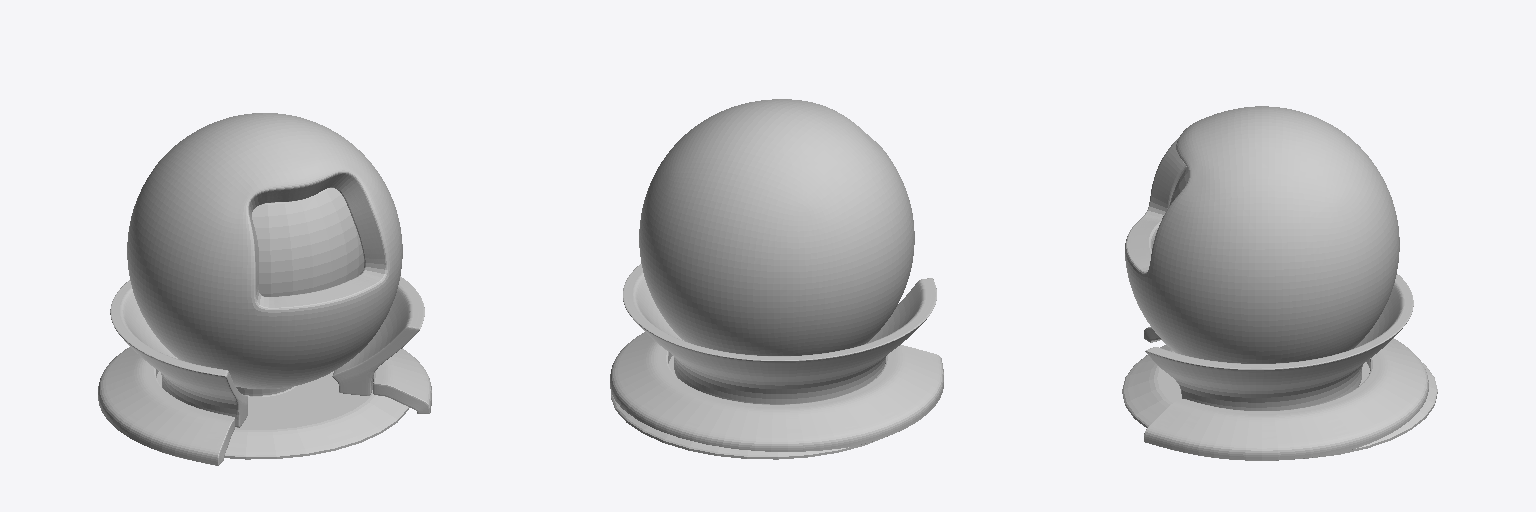
The model's file is mitsuba_sphere.obj.
3 renders of one model, left to right at view 1: azimuth 30°, elevation 25°; view 2: azimuth 150°, elevation 25°; view 3: azimuth 270°, elevation 25°, orthographic.
Visible parts, largest first — view 1: 3, 2; view 2: 3, 2; view 3: 3, 2.
Part boxes in pixels (bbox=[...]): 3: bbox=[98, 113, 431, 465]; 2: bbox=[157, 188, 409, 459]; 3: bbox=[610, 99, 943, 451]; 2: bbox=[611, 356, 882, 459]; 3: bbox=[1125, 106, 1428, 460]; 2: bbox=[1122, 168, 1437, 458].
Bounding box in the file's own units: 2.44 × 2.21 × 2.31.